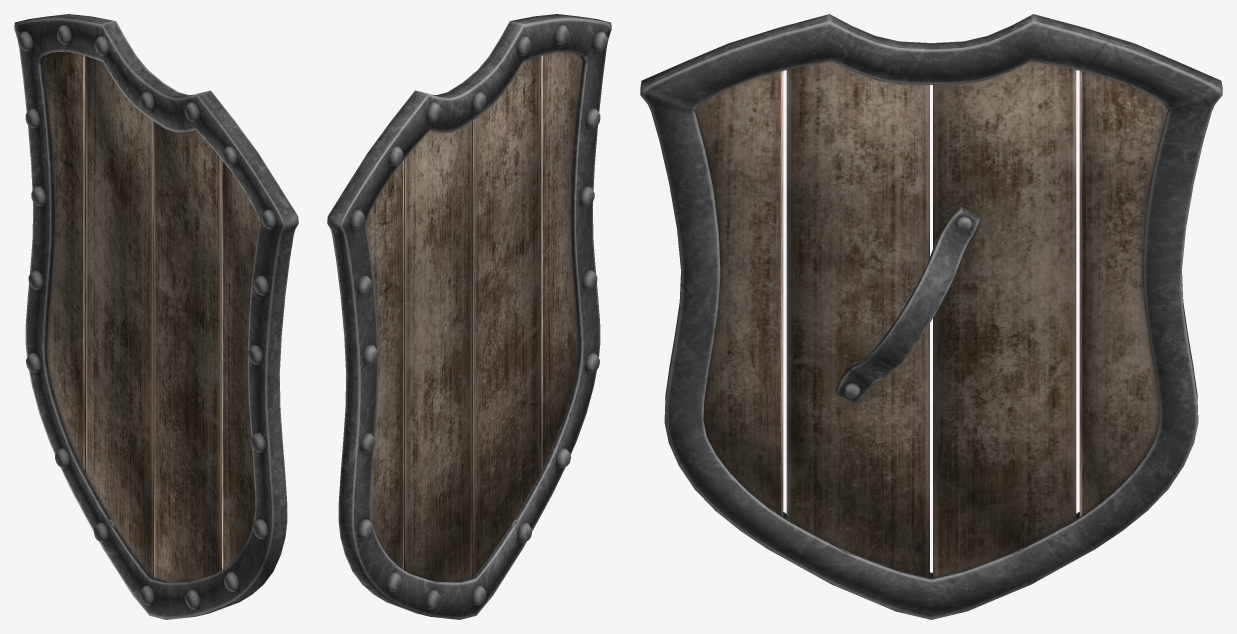
Rendered from SM_Shield_07.fbx.
3 views of the same model, side by side, from view 1: azimuth 30°, elevation 25°; view 2: azimuth 150°, elevation 25°; view 3: azimuth 270°, elevation 25° (orthographic). The views are drawn at different scales.
Visible parts, largest first — view 1: SM_Shield_07_LOD0; view 2: SM_Shield_07_LOD0; view 3: SM_Shield_07_LOD0.
Boxes of the visible parts, x1=… form: SM_Shield_07_LOD0: x1=14, y1=14, x2=298, y2=619; SM_Shield_07_LOD0: x1=327, y1=14, x2=611, y2=619; SM_Shield_07_LOD0: x1=640, y1=14, x2=1222, y2=619.
Size of the model in its own units: 8.65 by 60.41 by 68.52.
1 material, 1 textured.
